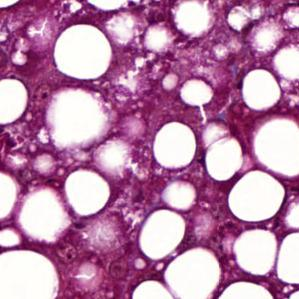steatosis: (55, 23, 114, 78), (230, 168, 287, 220), (153, 122, 198, 170), (62, 174, 106, 216), (240, 68, 282, 109)
